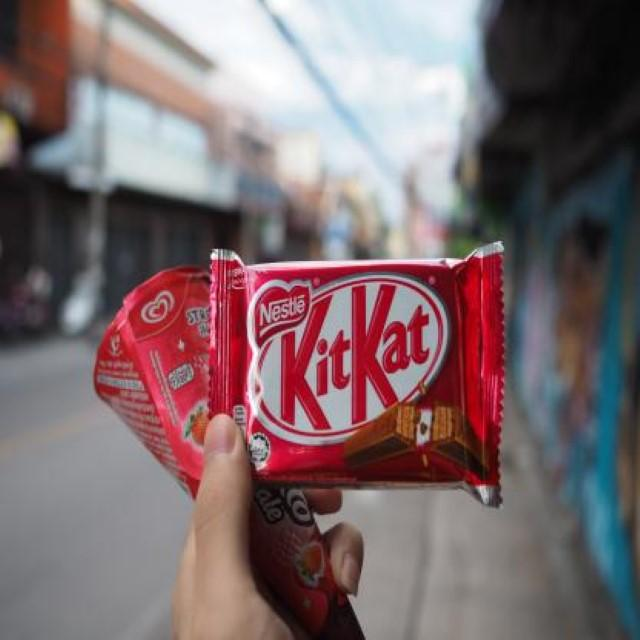kitkat_chocolate: (200, 213, 532, 517)
